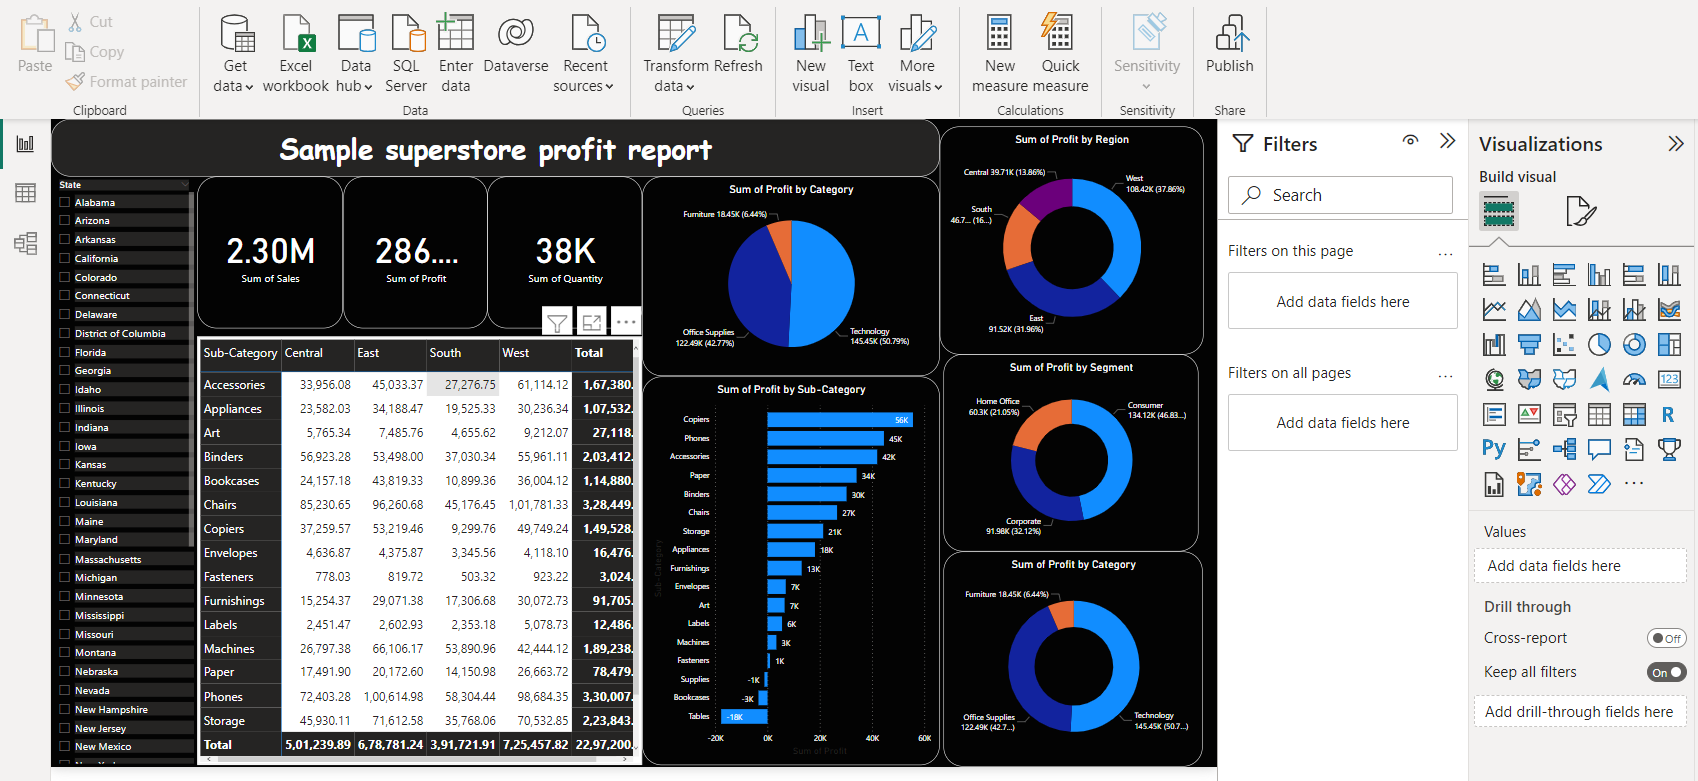

What the dashboard file says about the page in this screenshot:
{"tool":"powerbi","page":{"name":"create superstore report","canvas":[1800,1000],"ordinal":0},"visuals":[{"type":"textbox","box":[0,0,1371.9,88.8],"z":0},{"type":"donutChart","fields":{"Category":["Orders.Category"],"Y":["Sum(Orders.Profit)"]},"box":[1378.6,668.3,400.3,331.7],"z":1000},{"type":"donutChart","fields":{"Y":["Sum(Orders.Profit)"],"Category":["Orders.Segment"]},"box":[1378.6,363.5,393.6,304.9],"z":2000},{"type":"donutChart","fields":{"Y":["Sum(Orders.Profit)"],"Category":["Orders.Region"]},"box":[1371.9,11.7,407,351.8],"z":3000},{"type":"barChart","fields":{"Y":["Sum(Orders.Profit)"],"Category":["Orders.Sub-Category"]},"box":[912.9,397,459,599.7],"z":4000},{"type":"slicer","fields":{"Values":["Orders.State"]},"box":[0,88.8,226.1,911.2],"z":5000},{"type":"pivotTable","fields":{"Rows":["Orders.Sub-Category"],"Columns":["Orders.Region"],"Values":["Sum(Orders.Sales)"]},"box":[226.1,335,686.8,661.6],"z":6000},{"type":"card","fields":{"Values":["Sum(Orders.Sales)"]},"box":[226.1,88.8,224.5,234.5],"z":7000},{"type":"card","fields":{"Values":["Sum(Orders.Profit)"]},"box":[450.6,88.8,222.8,234.5],"z":8000},{"type":"card","fields":{"Values":["Sum(Orders.Quantity)"]},"box":[673.4,88.8,239.5,234.5],"z":9000},{"type":"pieChart","fields":{"Y":["Sum(Orders.Profit)"],"Category":["Orders.Category"]},"box":[912.9,88.8,459,308.2],"z":10000}]}

Visuals, with their boxes on the page's 1800x1000 design canvas (x1, y1, x2, y2). These are canvas units, not pixel positions in the 1698x781 screenshot, which may show the page scaled, cropped or inside an application window:
textbox: select_region(0, 0, 1372, 89)
donutChart - Orders.Category x Sum(Orders.Profit): select_region(1379, 668, 1779, 1000)
donutChart - Sum(Orders.Profit) x Orders.Segment: select_region(1379, 364, 1772, 668)
donutChart - Sum(Orders.Profit) x Orders.Region: select_region(1372, 12, 1779, 364)
barChart - Sum(Orders.Profit) x Orders.Sub-Category: select_region(913, 397, 1372, 997)
slicer - Orders.State: select_region(0, 89, 226, 1000)
pivotTable - Orders.Sub-Category x Orders.Region: select_region(226, 335, 913, 997)
card - Sum(Orders.Sales): select_region(226, 89, 451, 323)
card - Sum(Orders.Profit): select_region(451, 89, 673, 323)
card - Sum(Orders.Quantity): select_region(673, 89, 913, 323)
pieChart - Sum(Orders.Profit) x Orders.Category: select_region(913, 89, 1372, 397)
